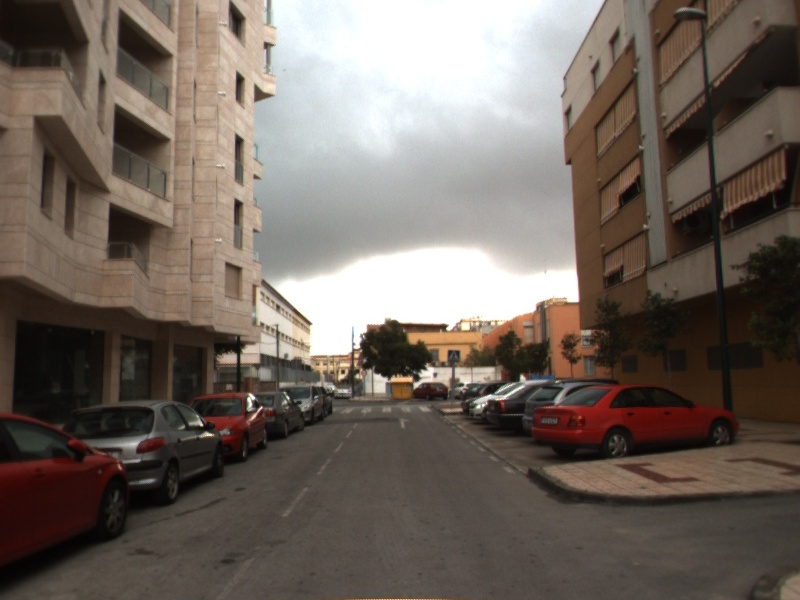STRAIGHT: (395, 415, 414, 430)
